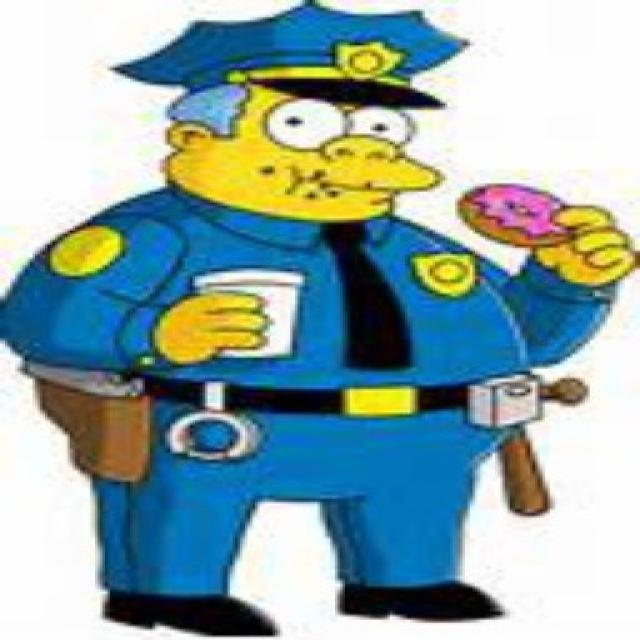Chief Wiggam: (106, 0, 473, 229)
